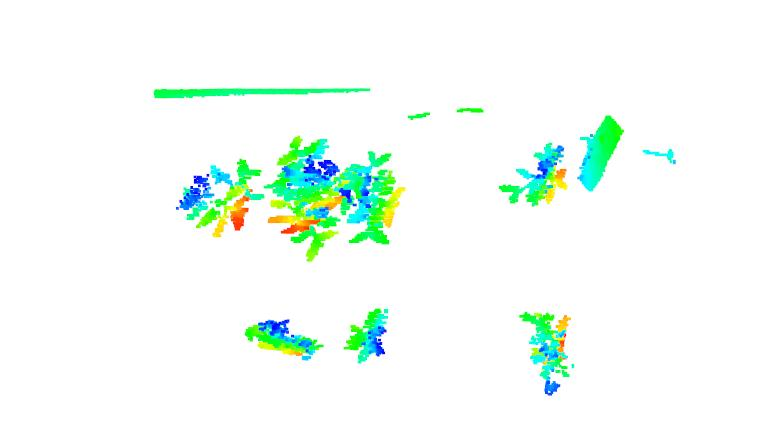chickpea: (273, 136, 346, 264), (179, 156, 260, 237), (344, 147, 398, 249), (497, 142, 573, 209), (520, 310, 578, 396), (244, 317, 322, 364), (346, 304, 391, 365)
